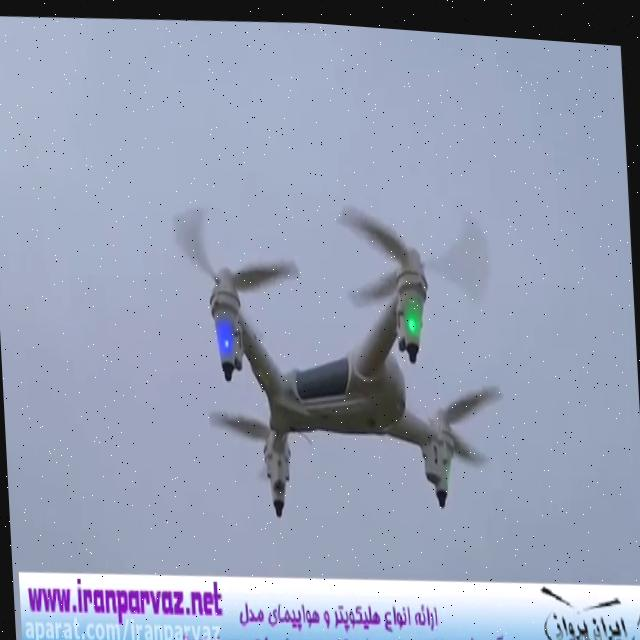drone: (158, 156, 518, 541)
